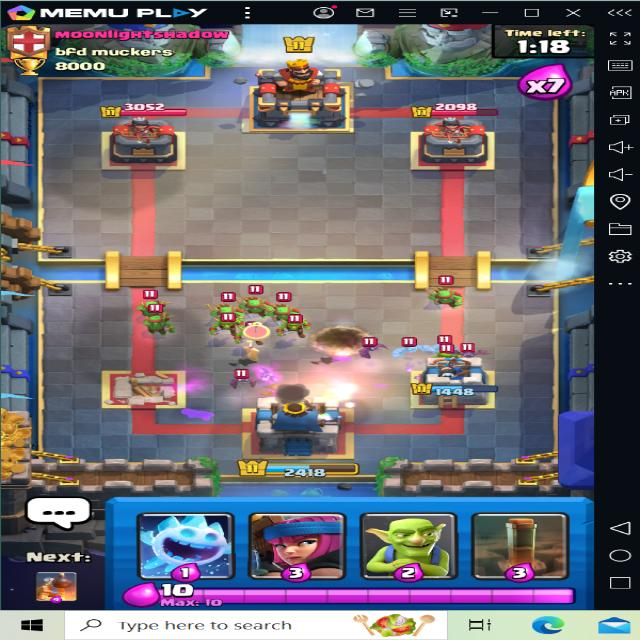bats: (227, 364, 266, 385), (459, 342, 487, 366), (362, 341, 398, 355)
goblin: (276, 313, 312, 338), (206, 314, 242, 339)
spear-goblin: (424, 278, 468, 308), (268, 294, 308, 321), (136, 286, 172, 315), (144, 311, 176, 339), (206, 299, 240, 319), (244, 294, 268, 315)
